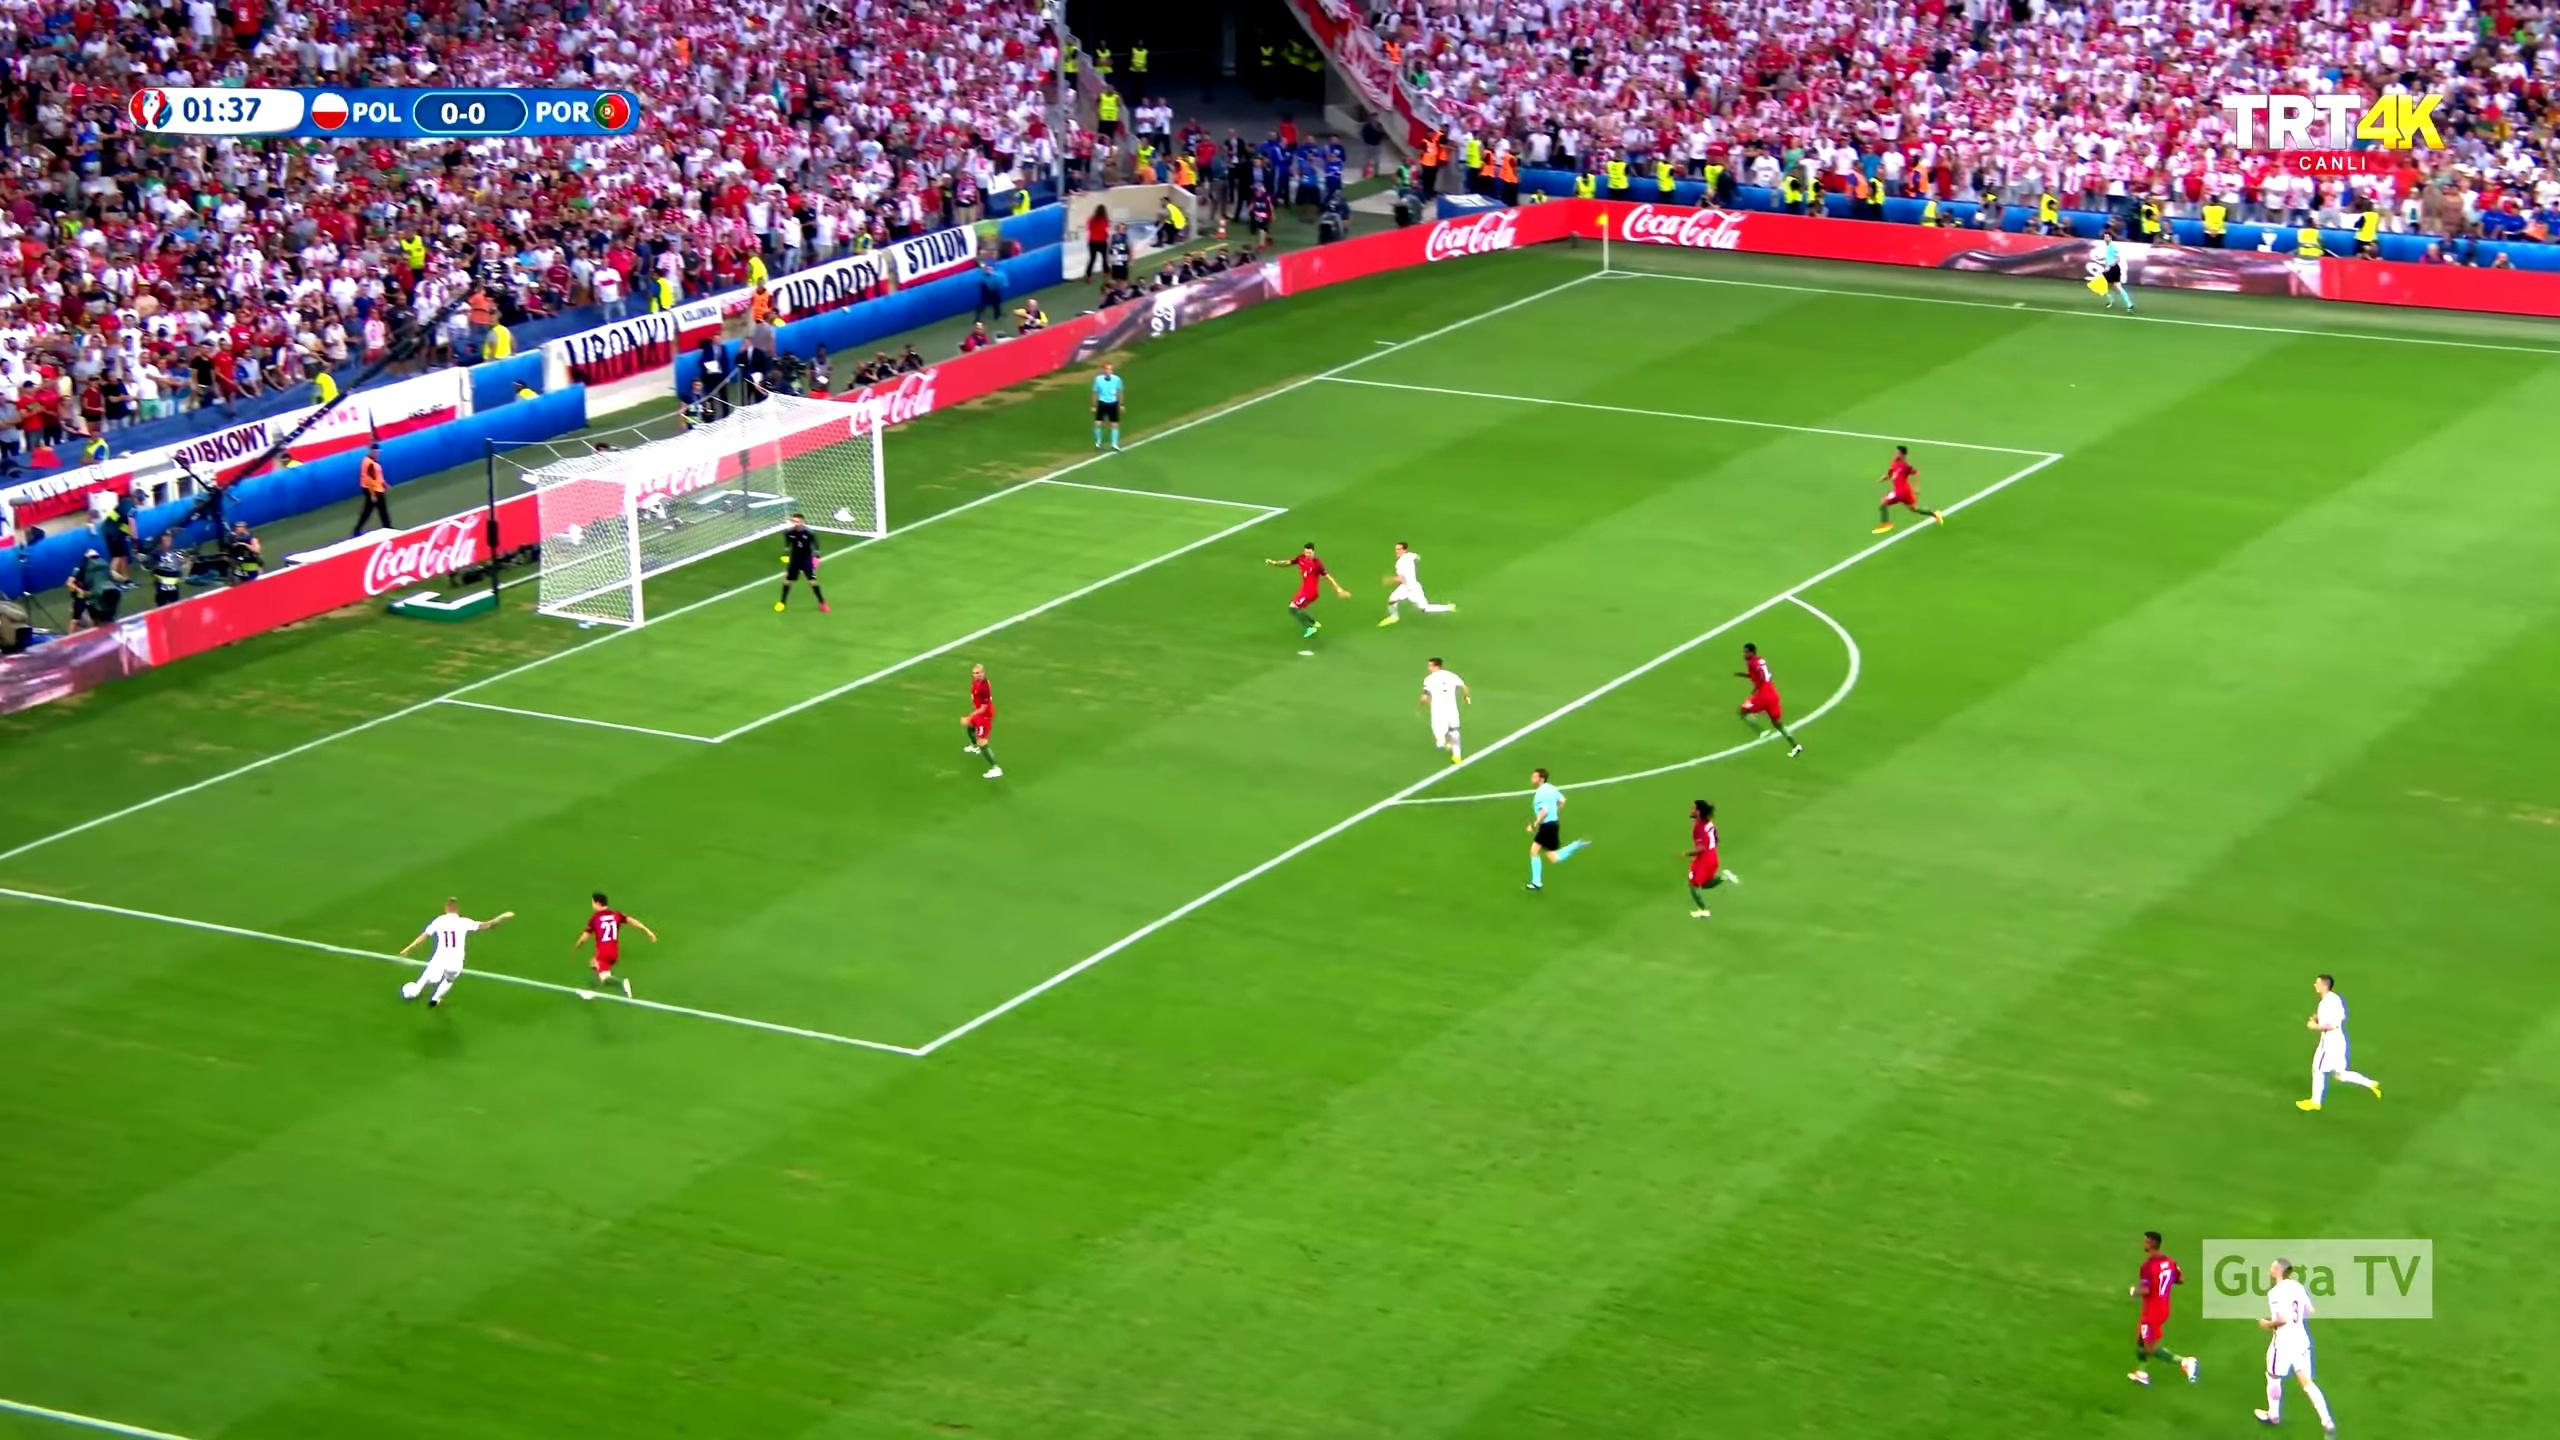ball: (398, 978, 425, 1006)
goalkeeper: (770, 510, 837, 623)
player: (2252, 1254, 2342, 1440), (2114, 1226, 2209, 1395), (2292, 968, 2388, 1129), (397, 894, 520, 1014), (1720, 632, 1811, 766), (569, 884, 662, 1008), (1260, 537, 1357, 644), (1374, 534, 1467, 645), (1670, 794, 1744, 925), (1866, 438, 1950, 544), (953, 656, 1009, 783), (1414, 652, 1476, 763)
referee: (1514, 762, 1603, 897), (2087, 226, 2139, 322), (1086, 358, 1131, 457)
